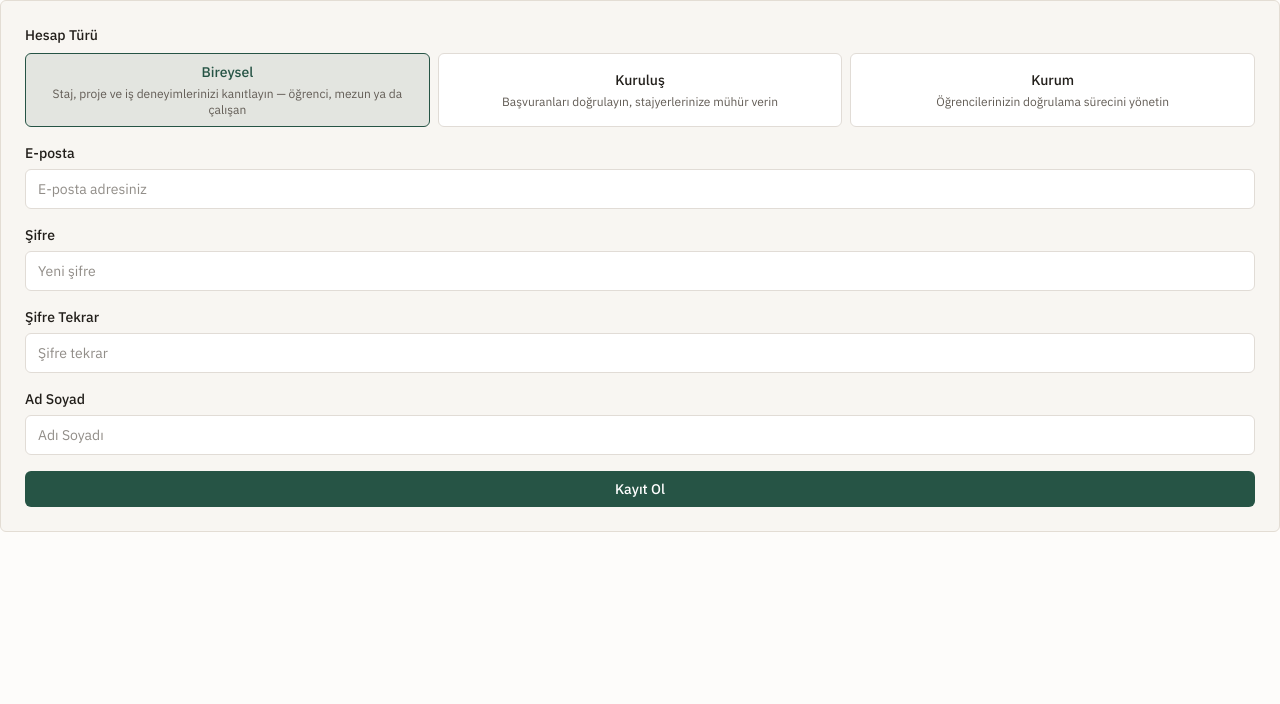
Scenario: RegisterForm — kuruluş kaydı › belge adımı (mock) › belge seçilmeden kontrol düğmesi pasiftir
Click the radio button labelled "Kuruluş Başvuranları doğrulayın, stajyerlerinize mühür verin" at (640, 90), box [438,53,842,127]
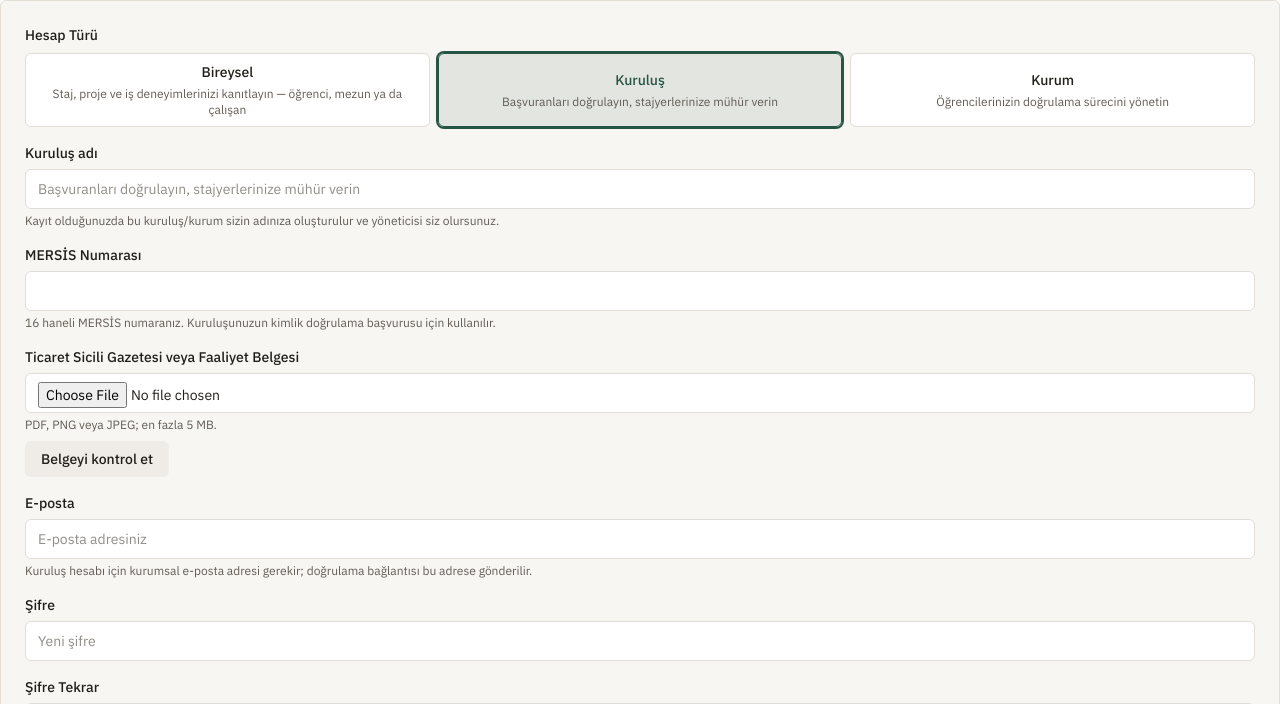
Expected: the button "Belgeyi kontrol et" is disabled, [25,441,169,477]
